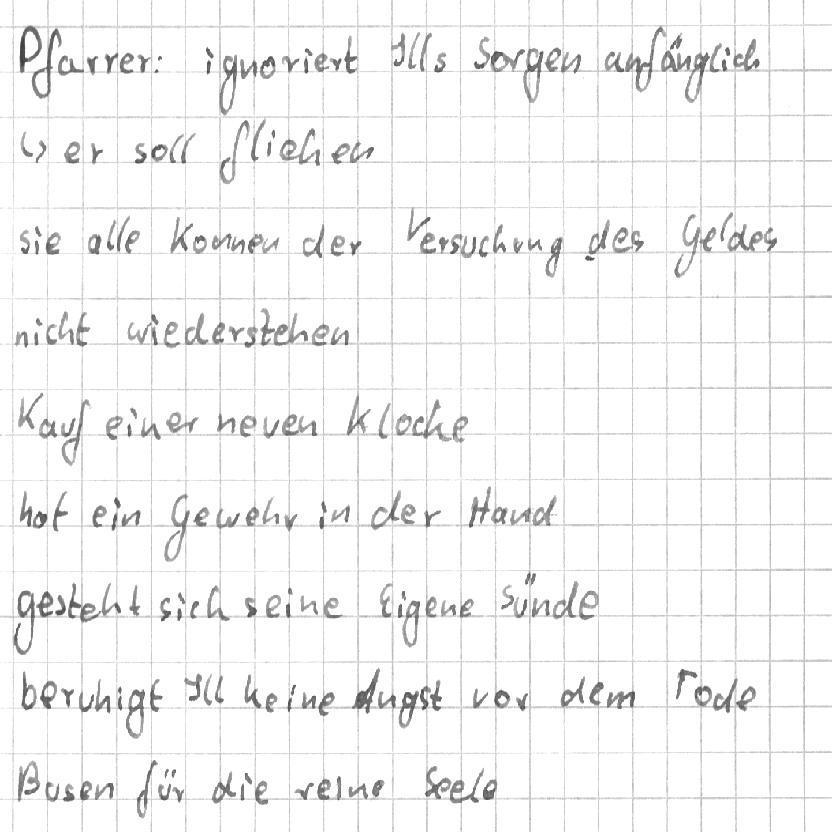Char: (30, 26, 62, 100), (59, 397, 91, 467), (671, 211, 700, 281), (162, 492, 190, 561), (217, 122, 249, 182), (636, 26, 661, 91), (13, 587, 35, 657), (133, 757, 157, 819), (683, 47, 709, 104), (17, 23, 43, 77), (368, 487, 401, 528), (218, 52, 238, 115), (209, 765, 238, 806), (523, 46, 543, 103), (344, 396, 370, 438), (466, 484, 490, 529), (551, 580, 578, 620), (583, 222, 609, 263), (124, 685, 144, 738), (353, 668, 377, 712), (513, 571, 535, 618), (424, 397, 445, 442), (712, 676, 738, 712), (168, 214, 191, 254), (543, 234, 563, 280), (397, 687, 418, 730), (17, 758, 38, 801), (17, 390, 39, 431), (19, 131, 48, 162), (203, 583, 227, 620), (298, 126, 320, 166), (182, 311, 207, 346), (672, 666, 695, 704), (405, 206, 429, 242), (533, 491, 557, 526), (18, 668, 37, 712), (422, 762, 444, 800), (559, 675, 584, 708), (301, 224, 324, 259), (51, 489, 70, 531), (404, 596, 420, 645), (99, 580, 120, 617), (660, 34, 679, 73), (242, 672, 261, 710), (472, 35, 492, 71), (171, 133, 194, 164), (157, 767, 176, 804), (290, 311, 310, 345), (341, 34, 358, 74), (577, 589, 598, 621), (250, 119, 266, 161), (57, 309, 75, 346), (608, 686, 636, 709), (727, 223, 750, 251), (735, 683, 756, 713), (448, 414, 469, 444), (183, 673, 203, 704), (469, 767, 485, 805), (491, 219, 508, 254), (389, 33, 406, 68), (95, 676, 111, 713), (206, 674, 225, 705), (147, 678, 164, 712), (126, 583, 143, 617), (349, 140, 374, 163), (126, 319, 149, 344), (561, 48, 582, 75), (261, 496, 280, 525), (61, 139, 83, 164), (75, 311, 91, 345), (427, 678, 443, 712), (745, 38, 761, 72), (161, 320, 181, 347), (419, 33, 433, 71), (407, 31, 421, 69), (377, 405, 393, 438), (103, 218, 118, 253), (64, 581, 78, 618), (116, 215, 130, 252), (40, 680, 57, 710), (708, 41, 723, 75), (140, 417, 162, 440), (103, 415, 124, 439), (257, 309, 271, 345), (260, 414, 281, 438), (499, 583, 515, 614), (378, 583, 393, 616), (19, 490, 32, 528), (588, 680, 606, 707), (93, 780, 115, 802), (329, 142, 351, 164), (603, 49, 624, 72), (328, 504, 351, 525), (544, 46, 561, 74), (239, 412, 258, 437), (507, 47, 526, 72), (449, 778, 467, 804), (480, 775, 498, 801), (613, 223, 629, 252), (215, 413, 237, 434), (299, 595, 321, 616), (216, 508, 239, 528), (762, 224, 779, 251), (271, 322, 290, 346), (489, 48, 508, 72), (254, 777, 270, 805), (299, 415, 319, 437), (294, 781, 316, 801), (89, 504, 108, 527), (191, 506, 210, 529), (76, 689, 95, 712), (38, 589, 53, 618), (719, 210, 733, 241), (45, 232, 63, 256), (243, 595, 261, 619), (434, 775, 452, 799), (509, 506, 530, 526), (377, 689, 397, 710), (78, 600, 97, 622), (314, 53, 336, 72), (278, 139, 297, 161), (86, 142, 105, 164), (693, 684, 712, 706), (317, 693, 336, 715), (202, 44, 215, 76), (264, 593, 282, 616), (394, 414, 412, 437), (210, 322, 228, 345), (299, 689, 317, 712), (514, 689, 532, 712), (344, 780, 367, 798), (470, 686, 488, 709), (261, 689, 279, 712), (282, 412, 299, 436), (284, 682, 297, 713), (279, 511, 299, 531), (423, 506, 443, 526), (492, 687, 511, 708), (58, 54, 77, 75), (58, 416, 76, 438), (131, 140, 148, 163), (260, 56, 277, 79), (124, 230, 141, 253), (18, 228, 33, 254), (39, 414, 55, 438), (400, 502, 416, 526), (122, 508, 141, 528), (240, 58, 258, 79), (150, 143, 168, 164), (369, 777, 387, 798), (312, 323, 330, 344), (532, 597, 550, 618), (458, 596, 476, 617), (60, 684, 75, 709), (166, 410, 181, 435), (61, 781, 78, 803), (625, 51, 642, 73), (45, 778, 61, 801), (460, 234, 476, 257), (119, 51, 135, 74), (720, 46, 733, 74), (330, 326, 349, 345), (260, 235, 279, 254), (126, 408, 138, 438), (174, 591, 186, 621), (329, 236, 347, 256), (240, 771, 252, 801), (324, 598, 342, 618), (702, 228, 717, 252), (211, 233, 232, 250), (491, 505, 508, 526), (316, 778, 333, 799), (424, 595, 441, 616), (245, 506, 261, 528), (284, 585, 295, 617), (110, 498, 121, 530), (78, 778, 93, 801), (158, 597, 173, 620), (103, 51, 118, 74), (265, 127, 276, 158), (85, 234, 102, 254), (347, 236, 363, 257), (84, 54, 100, 75), (136, 52, 152, 73), (675, 51, 691, 72), (53, 593, 67, 617), (419, 684, 431, 712), (32, 315, 42, 348), (150, 313, 160, 346), (474, 234, 489, 256), (301, 47, 313, 74), (183, 416, 201, 434), (281, 55, 298, 74), (448, 232, 462, 255), (421, 234, 437, 254), (191, 234, 207, 254), (45, 322, 58, 346), (630, 230, 644, 252), (749, 230, 763, 252), (410, 415, 424, 437), (228, 324, 244, 343), (170, 784, 186, 803), (248, 234, 263, 254), (15, 328, 30, 348), (433, 54, 448, 74), (437, 233, 451, 254), (244, 326, 258, 347), (396, 589, 406, 618), (334, 772, 344, 801), (230, 235, 245, 254), (113, 685, 123, 713), (33, 227, 43, 255), (318, 499, 327, 530), (32, 511, 47, 529), (188, 600, 202, 619), (443, 600, 458, 616), (732, 49, 744, 69), (527, 236, 542, 252), (512, 236, 525, 253), (152, 54, 163, 74)
